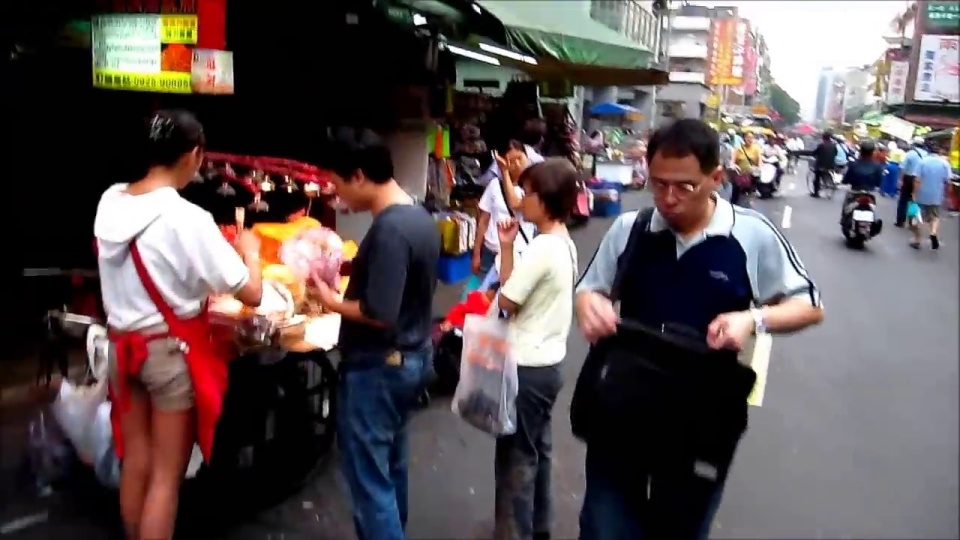person_head: (645, 117, 723, 233), (321, 126, 393, 211), (147, 112, 204, 190), (518, 153, 579, 225), (498, 139, 527, 184), (521, 115, 545, 148), (861, 138, 876, 162), (927, 139, 939, 156), (912, 135, 925, 149), (742, 129, 753, 145), (726, 127, 735, 143), (821, 129, 832, 142), (774, 132, 784, 146), (768, 128, 776, 145), (753, 129, 761, 140), (791, 129, 797, 138)
person_vbox: (574, 117, 834, 540), (93, 114, 263, 538), (320, 123, 444, 538), (495, 151, 579, 540), (470, 136, 534, 291), (488, 115, 554, 243), (907, 137, 951, 252), (895, 136, 927, 228), (837, 138, 881, 191), (805, 129, 838, 196), (733, 125, 761, 198), (878, 140, 906, 198), (761, 128, 787, 186), (788, 128, 805, 175), (833, 132, 849, 175), (726, 124, 739, 166), (754, 128, 764, 151)
